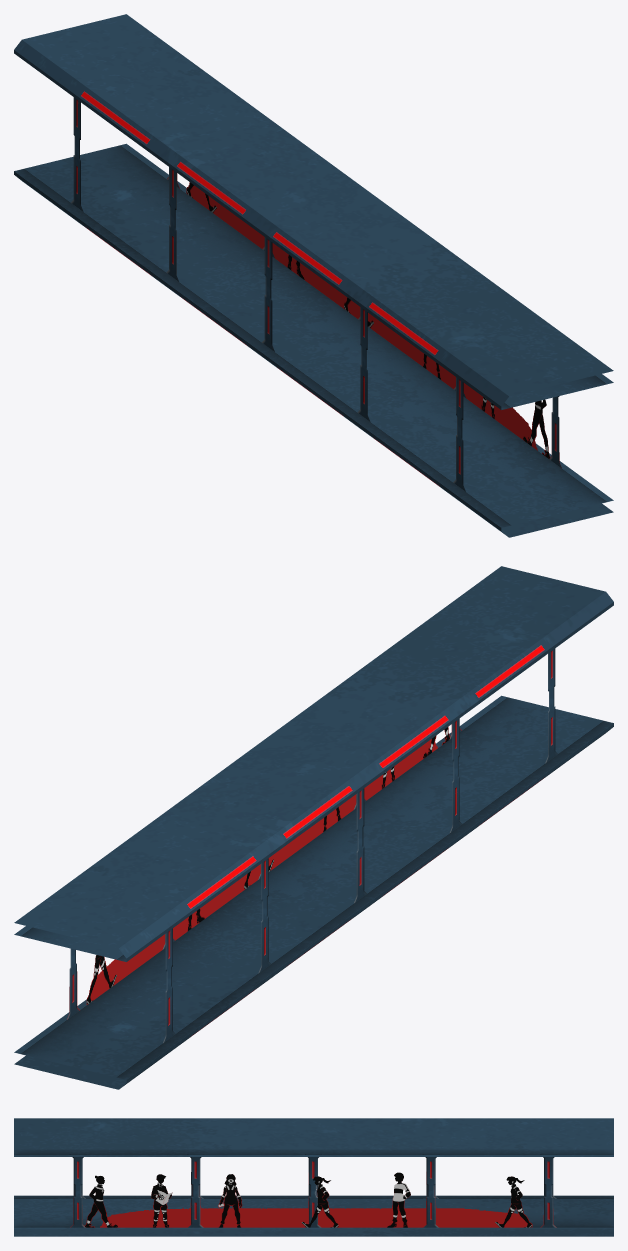
File: Tunnel 01.fbx
The picture shows the model from 3 angles, top to bottom: view 1: azimuth 30°, elevation 25°; view 2: azimuth 150°, elevation 25°; view 3: azimuth 270°, elevation 25°; orthographic projection. The views are drawn at different scales.
Parts seen in each view (by area): view 1: Top_Floor, Bottom_Floor, Back_Plane, Front_Plane; view 2: Top_Floor, Bottom_Floor, Back_Plane, Front_Plane; view 3: Top_Floor, Bottom_Floor, Back_Plane, Front_Plane.
Boxes of the visible parts, x1,y1,x2,y2 form: Top_Floor: [14, 14, 613, 409]; Bottom_Floor: [14, 143, 613, 537]; Back_Plane: [167, 173, 561, 468]; Front_Plane: [71, 97, 465, 491]; Top_Floor: [14, 566, 613, 961]; Bottom_Floor: [14, 695, 613, 1089]; Back_Plane: [67, 724, 461, 1019]; Front_Plane: [163, 648, 557, 1042]; Top_Floor: [14, 1118, 613, 1156]; Bottom_Floor: [14, 1195, 613, 1236]; Back_Plane: [70, 1154, 556, 1227]; Front_Plane: [70, 1185, 556, 1198].
Size of the model in its own units: 2 by 2.4 by 15.
